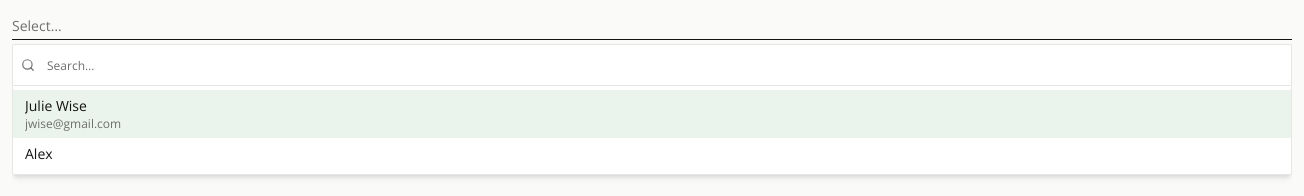
Test: Polish #5 Fix 3 — chevron + portal + label-only filter › filter matches by label only in inlineMode (ignores description)
Type "m" into the field named "Filter options" at {"x": 663, "y": 65}, box [43,51,1283,79]
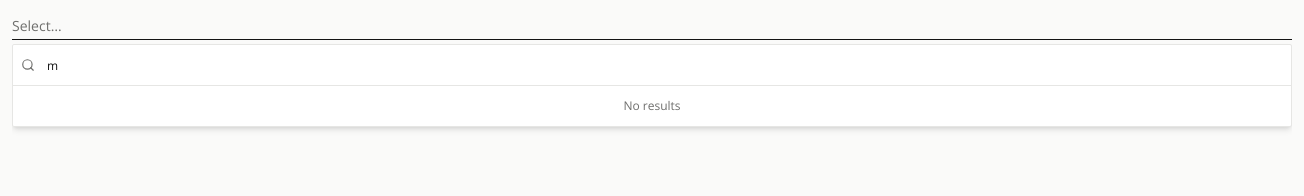
expect the option "Julie Wise" is gone: met
expect the option "Alex" is gone: met
